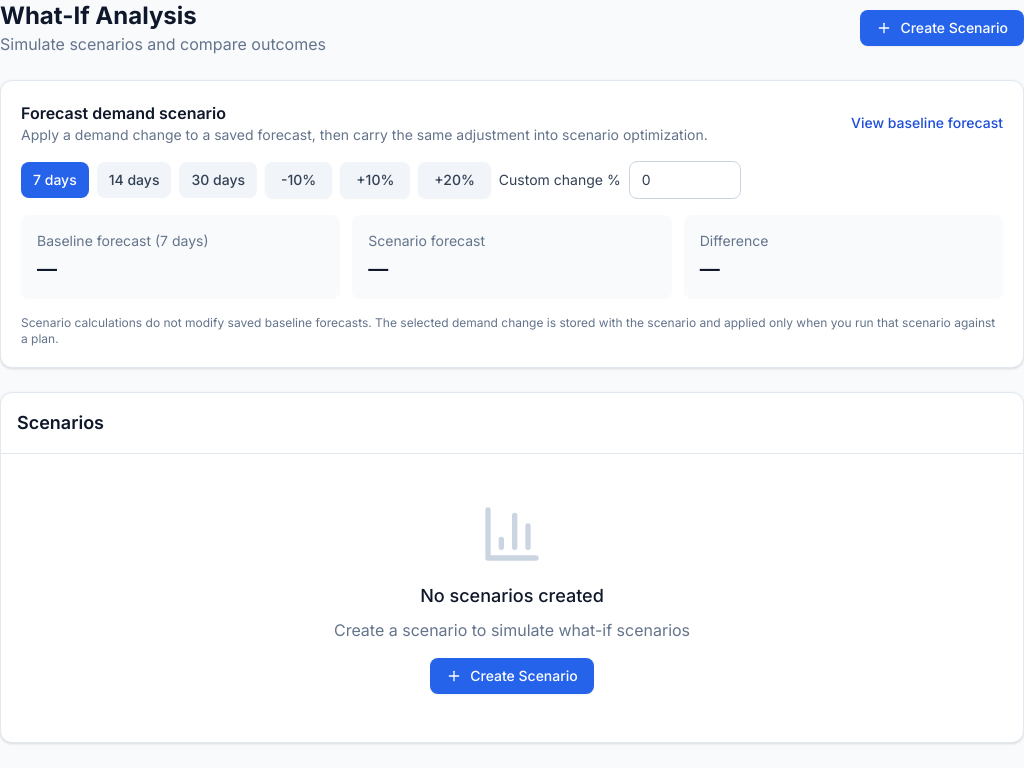
it: B6 What-If create errors are shown › keeps the dialog open with the server message
This screenshot has width=1024, height=768.
Click the button "Create Scenario" in the row of "Simulate scenarios and compare outcomes".
click(942, 28)  # box [860, 10, 1023, 46]
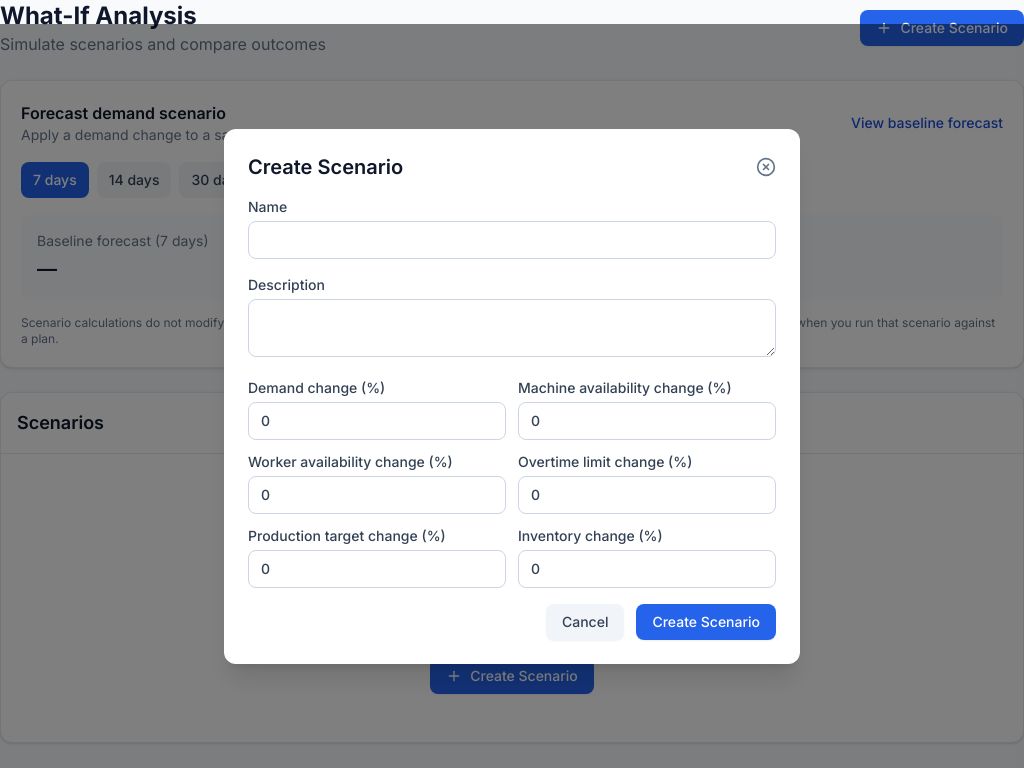
Type "Bad" into the field labelled "Name".
click(512, 240); type("Bad")  # box [248, 220, 776, 258]
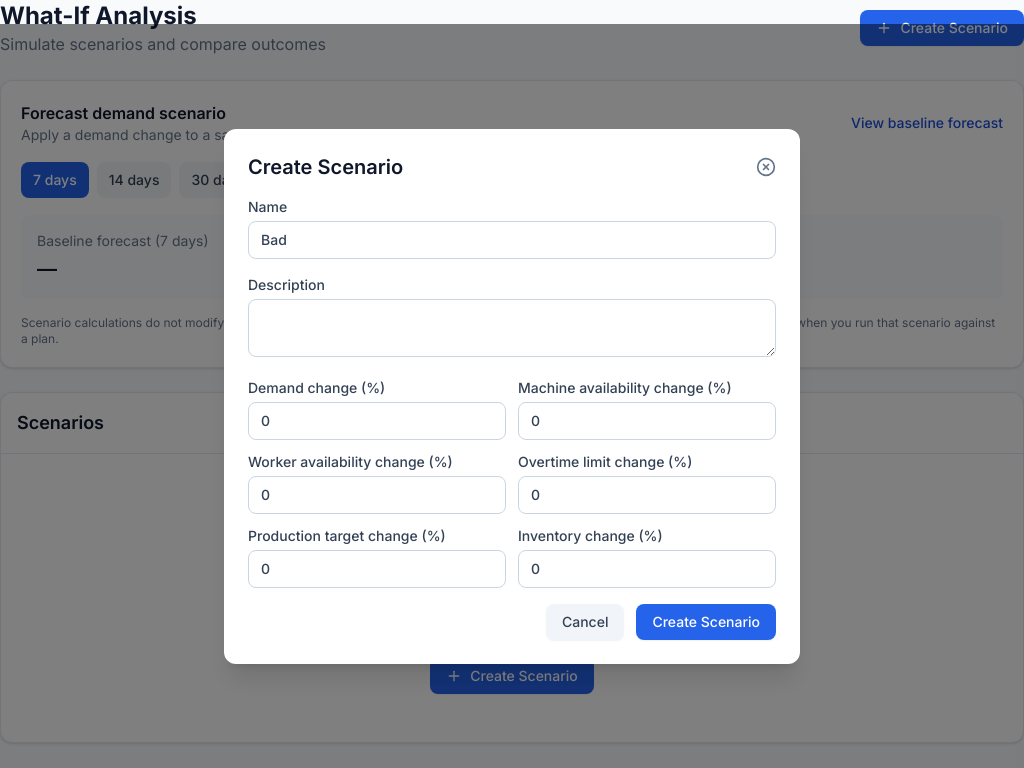
Click the button "Create Scenario".
click(706, 622)  # box [636, 604, 776, 640]
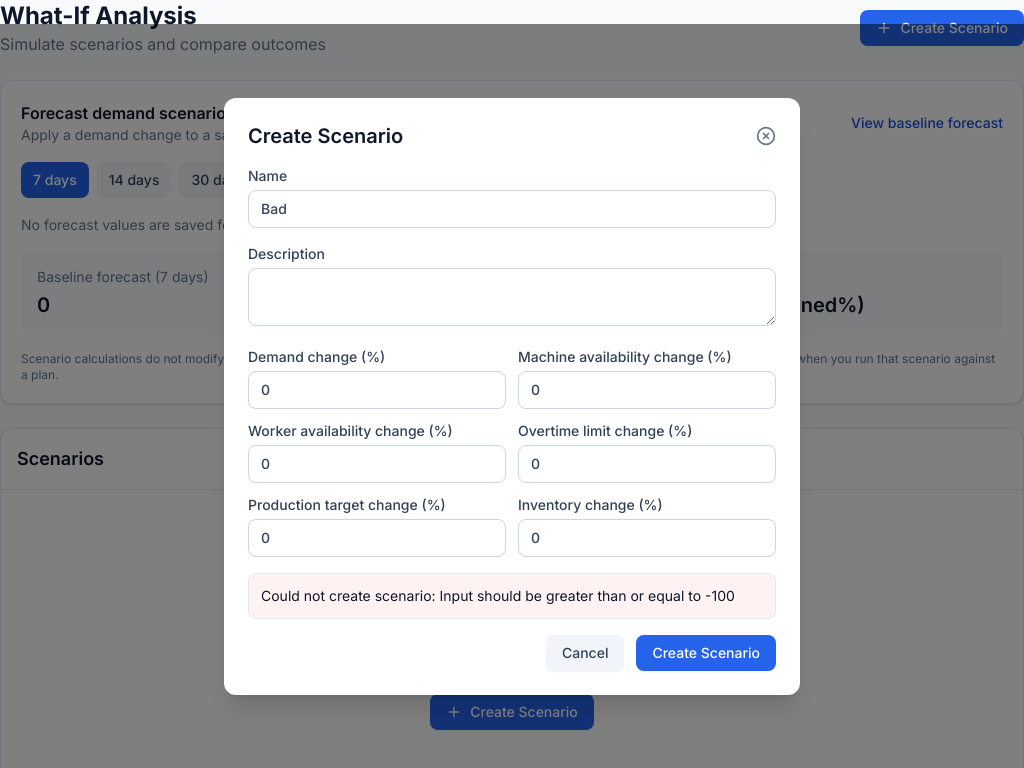
Check: the text "Could not create scenario: Input should be greater than or equal to -100" is shown, box [248, 572, 776, 618]
